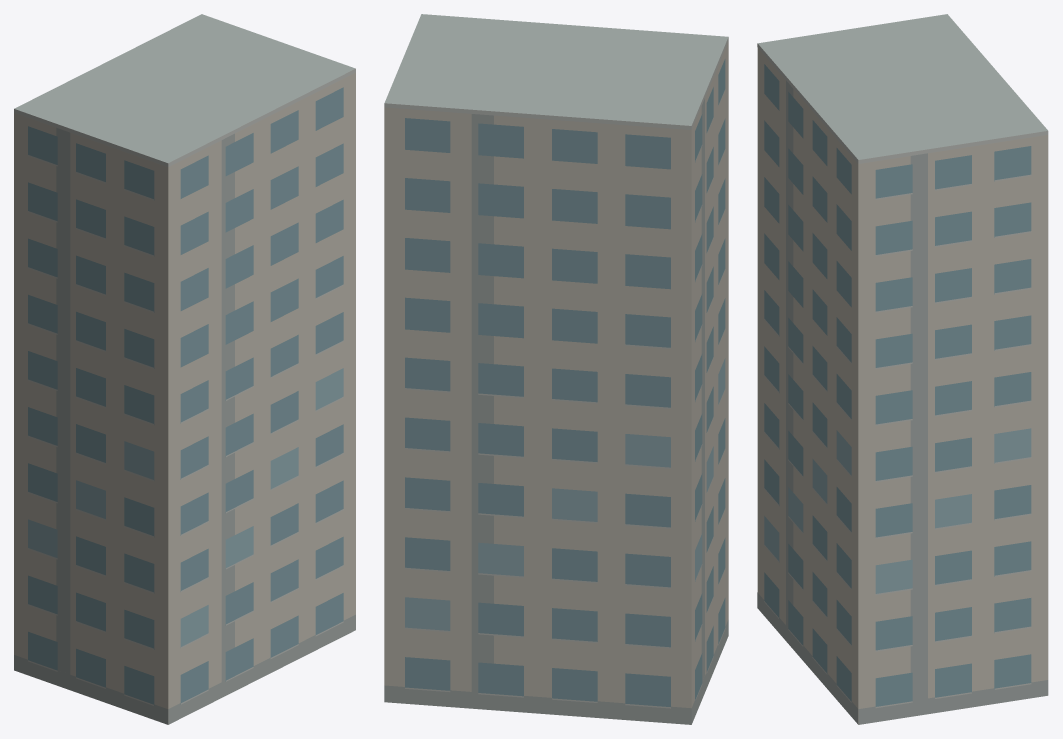
File: residential-471d0a04-c2d3-48b5-a7a6-912708a30200.glb
3 renders of one model, left to right at view 1: azimuth 30°, elevation 25°; view 2: azimuth 150°, elevation 25°; view 3: azimuth 270°, elevation 25°, orthographic. The views are drawn at different scales.
Parts seen in each view (by area): view 1: residential-471d0a04-c2d3-48b5-a7a6-912708a30200.tmp; view 2: residential-471d0a04-c2d3-48b5-a7a6-912708a30200.tmp; view 3: residential-471d0a04-c2d3-48b5-a7a6-912708a30200.tmp.
Part boxes in pixels (x1,y1,x2,y2): residential-471d0a04-c2d3-48b5-a7a6-912708a30200.tmp: [14, 14, 355, 724]; residential-471d0a04-c2d3-48b5-a7a6-912708a30200.tmp: [384, 14, 728, 724]; residential-471d0a04-c2d3-48b5-a7a6-912708a30200.tmp: [757, 14, 1048, 724].
Size of the model in its own units: 19.42 by 35 by 16.34.
